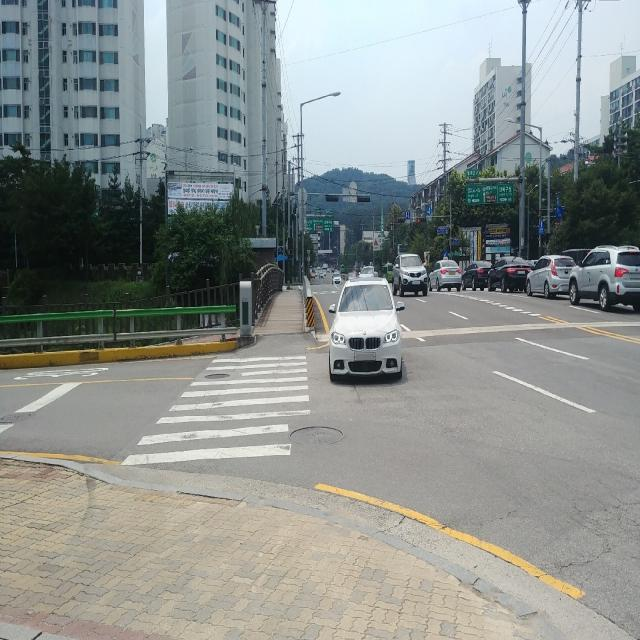횡단보도: (121, 356, 310, 466)
